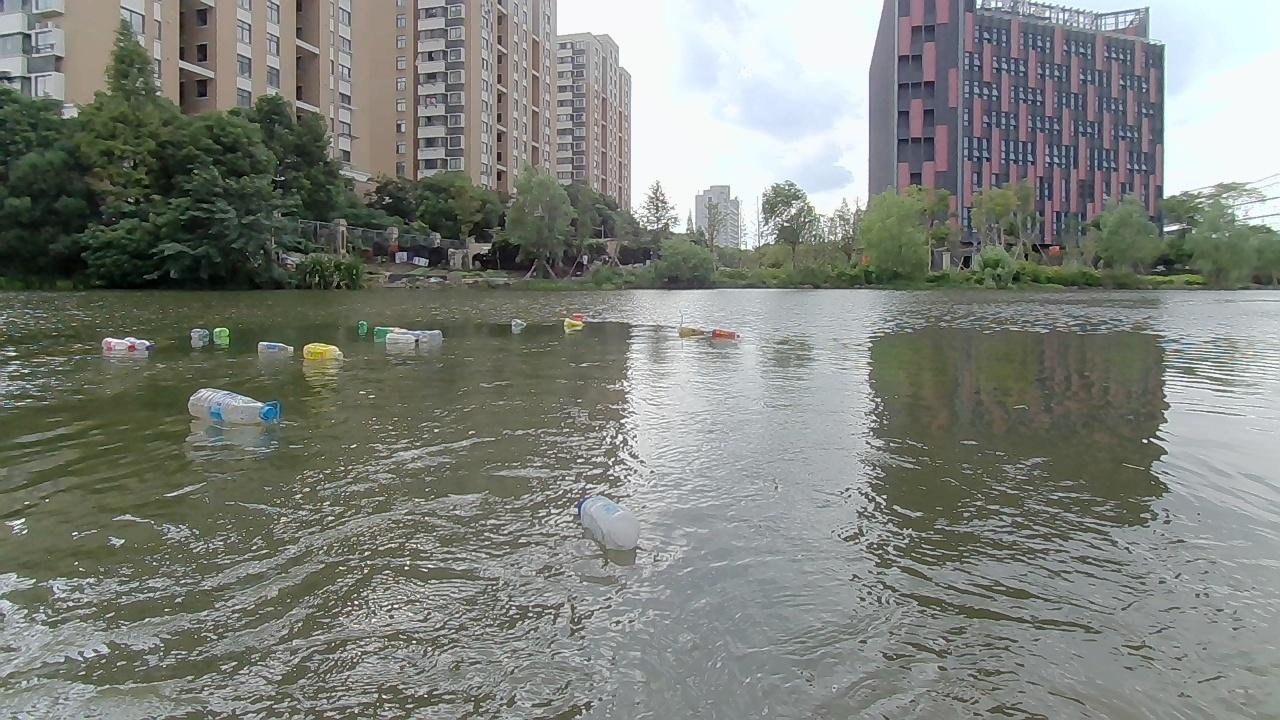bottle: (179, 390, 278, 428), (581, 495, 642, 552), (305, 341, 341, 366), (672, 321, 708, 344), (255, 339, 292, 360), (98, 336, 131, 357), (369, 322, 406, 340), (706, 326, 741, 344), (384, 332, 414, 350), (187, 327, 211, 347), (126, 333, 155, 348), (210, 325, 233, 343), (417, 330, 441, 346), (508, 316, 531, 330), (560, 317, 580, 329), (356, 321, 371, 333), (574, 310, 588, 322)
